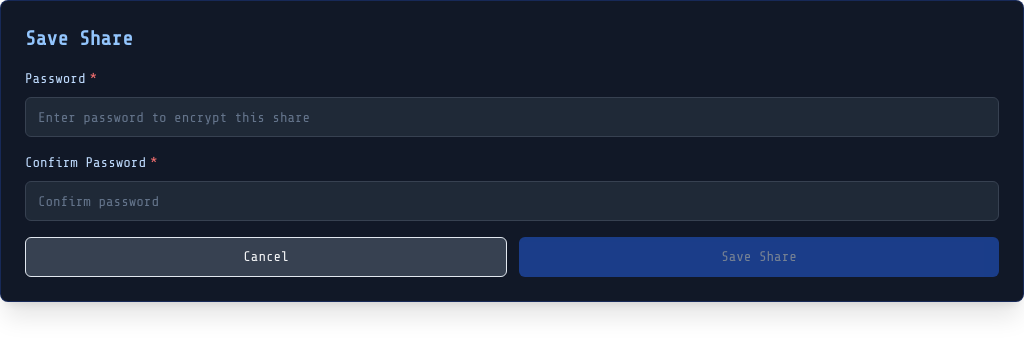
Test: SaveShare Component › Basic Functionality › should show error for password too short
This screenshot has width=1024, height=364.
In the password field with placeholder "Enter password to encrypt this share": (512, 117) [25,97,999,137], type "short"
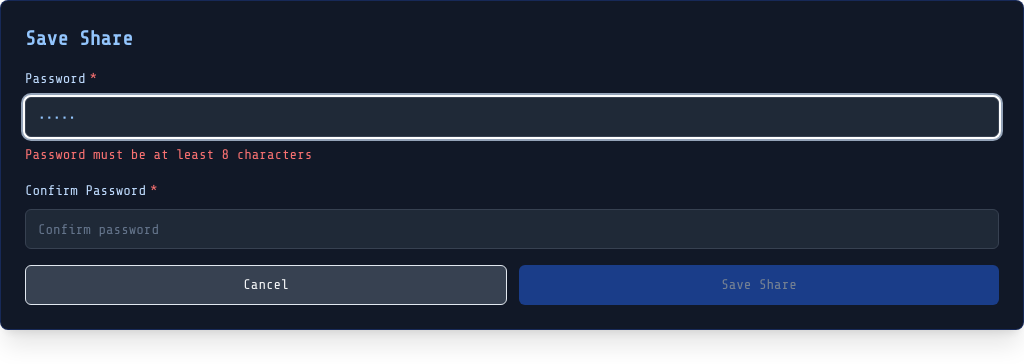
Expected: the text "Password must be at least 8 characters" is shown, [25,147,312,162]
